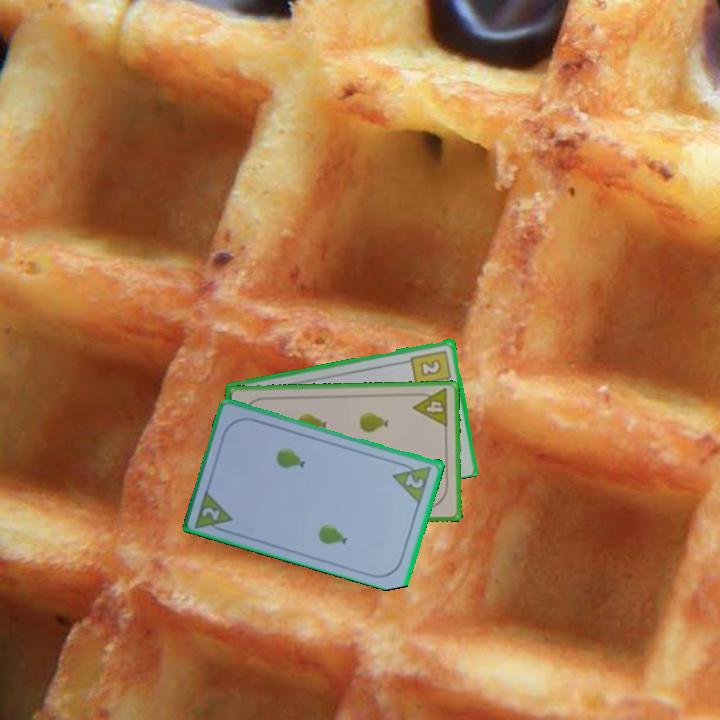2b: (408, 346, 454, 388)
2p: (389, 458, 435, 505), (198, 503, 223, 523)
4p: (410, 385, 451, 430)
